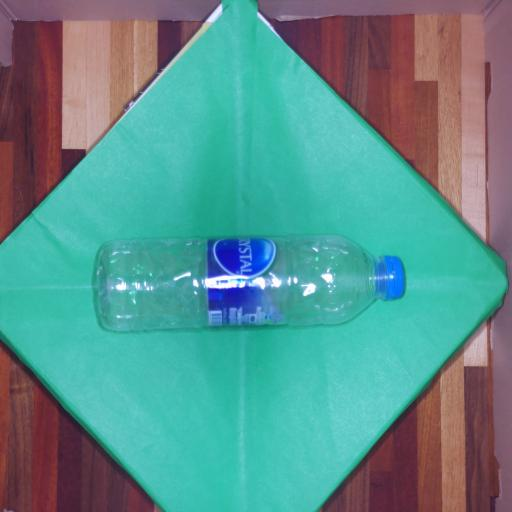bottle: (78, 212, 413, 347)
